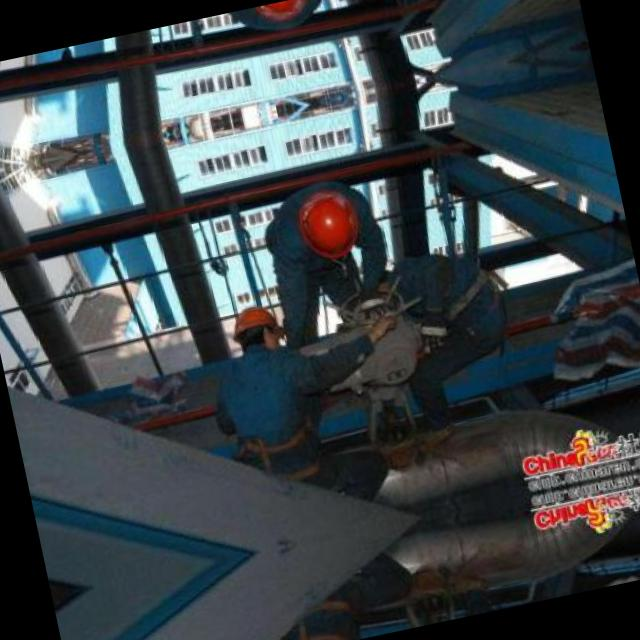helmet: (289, 181, 369, 263), (223, 296, 285, 358), (249, 0, 321, 29)
